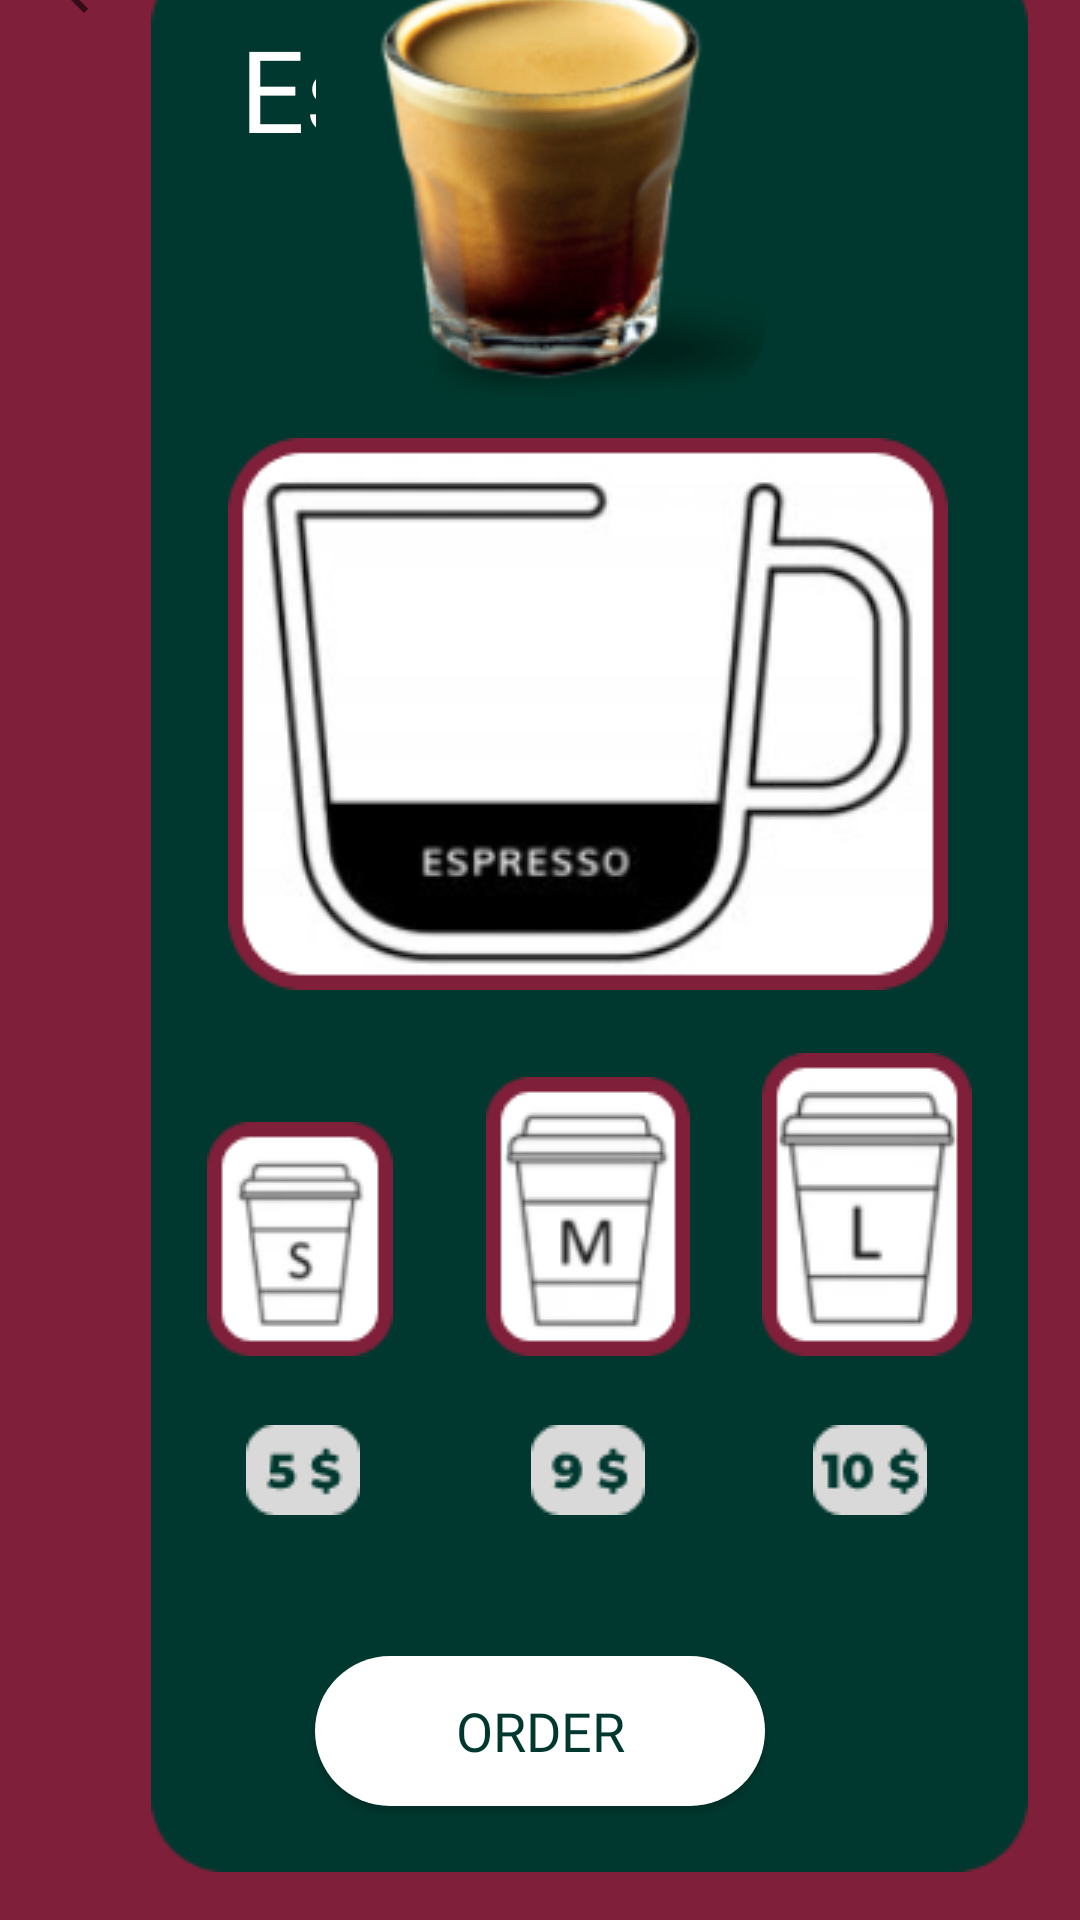

Where icons sit on this 1080×1920 app screen, as (x1, y1, x2, y2):
size coffee: (762, 1053, 972, 1356), (486, 1077, 690, 1356), (207, 1122, 393, 1356)
